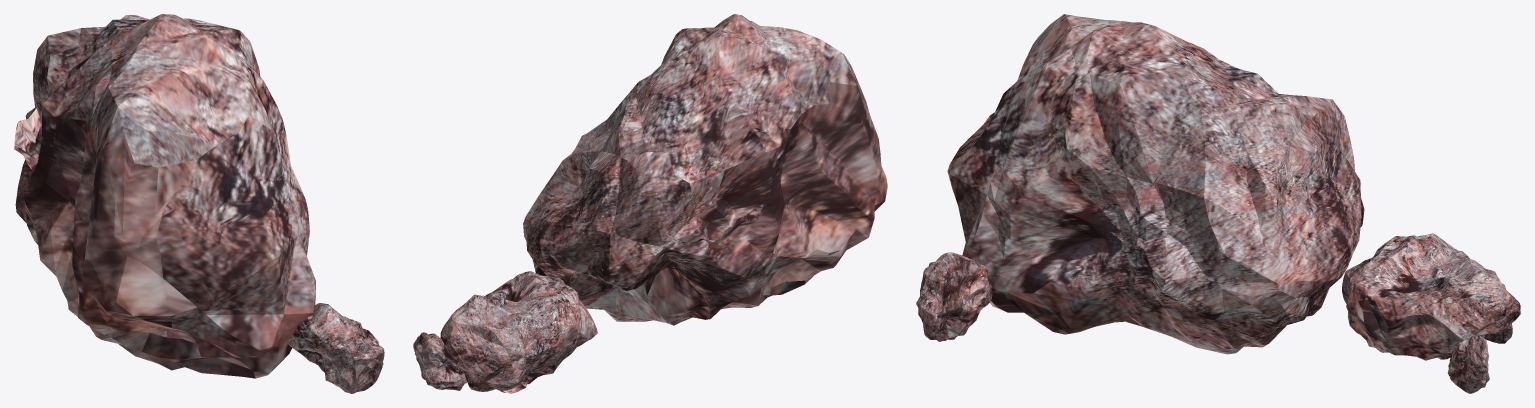
The picture shows the model from 3 angles, left to right: view 1: azimuth 30°, elevation 25°; view 2: azimuth 150°, elevation 25°; view 3: azimuth 270°, elevation 25°; orthographic projection. The views are drawn at different scales.
Visible parts, largest first — view 1: Cube, Cube.002; view 2: Cube, Cube.001, Cube.003; view 3: Cube, Cube.001, Cube.002, Cube.003.
Boxes of the visible parts, box(x1,y1,x2,y2) form: Cube: box(14, 14, 315, 378); Cube.002: box(287, 303, 384, 393); Cube: box(523, 14, 887, 325); Cube.001: box(440, 271, 597, 393); Cube.003: box(413, 332, 466, 390); Cube: box(947, 14, 1364, 354); Cube.001: box(1342, 233, 1520, 360); Cube.002: box(916, 252, 992, 341); Cube.003: box(1447, 335, 1489, 393).
Bounding box in the file's own units: 0.7479 × 0.7341 × 1.35.
Materials: 1 (1 with a texture image).
